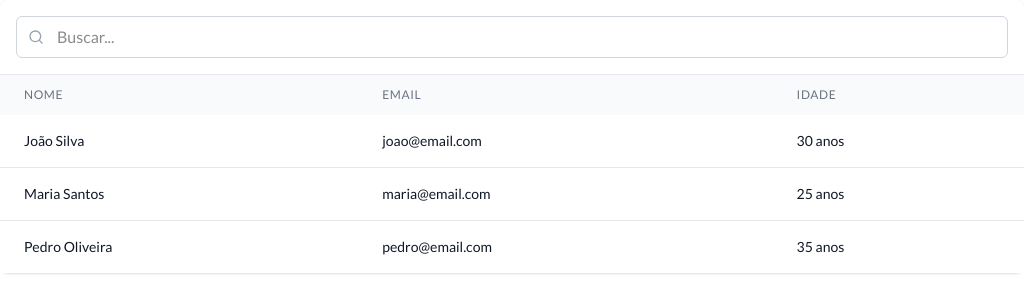
Test: DataTable Component › should clear search when input is cleared
# Type search term
Type "João" into the field with placeholder "Buscar..." at (512, 37), box [16,16,1008,58]
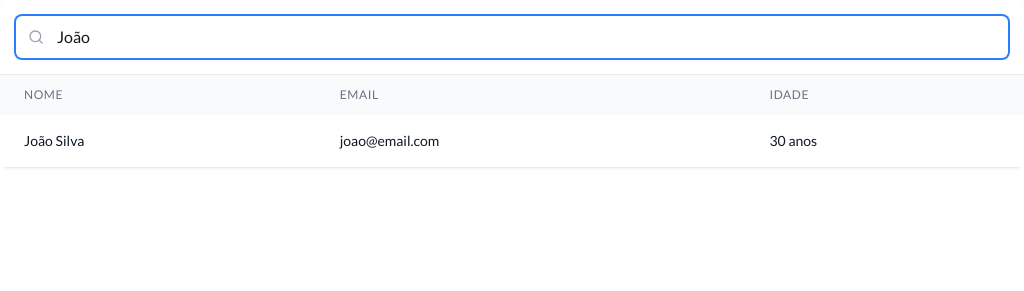
Expected: the text "Maria Santos" is gone
# Clear search
Clear the field with placeholder "Buscar..." at (512, 37), box [16,16,1008,58]
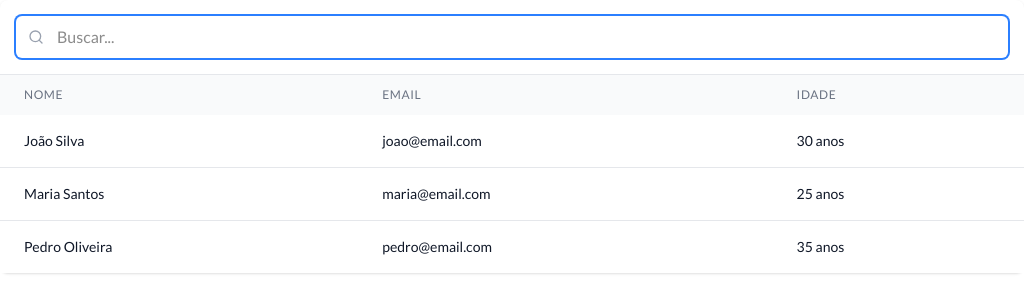
Expected: the text "Maria Santos" is shown, [0,168,358,220]
